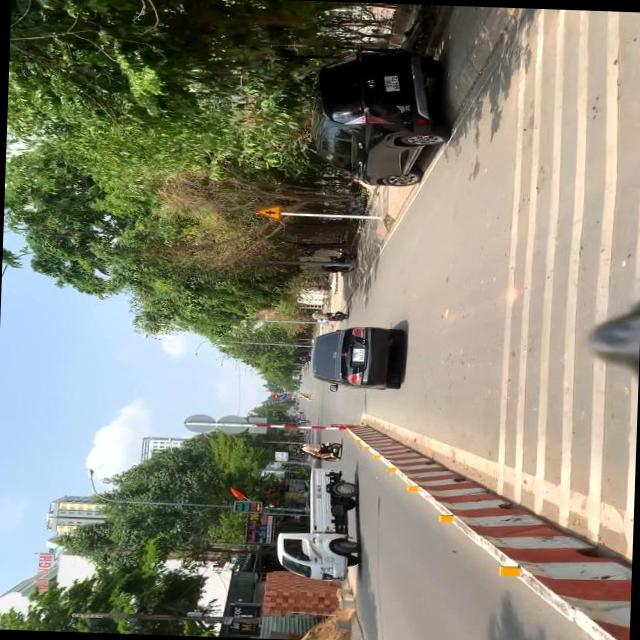W-207a: (253, 204, 283, 218)
